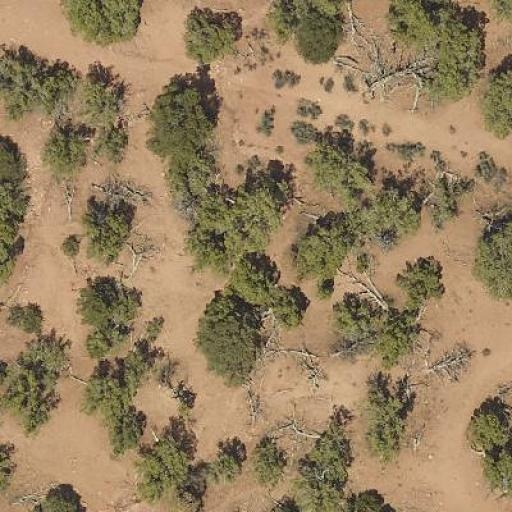tree-top: (143, 75, 222, 169), (300, 125, 385, 203), (205, 177, 286, 257), (428, 12, 494, 109), (198, 283, 262, 378), (0, 48, 69, 120), (360, 179, 434, 246), (296, 423, 351, 512), (286, 214, 356, 281), (132, 430, 201, 496), (178, 2, 244, 64), (0, 357, 54, 430), (360, 383, 412, 458), (78, 274, 143, 332), (76, 200, 136, 262), (64, 0, 146, 43), (474, 217, 512, 304), (77, 362, 130, 420), (388, 0, 446, 51), (74, 69, 125, 124), (372, 309, 422, 364), (41, 123, 91, 175), (466, 398, 512, 454), (327, 293, 373, 347), (396, 258, 445, 307), (296, 13, 344, 62), (484, 60, 512, 142), (229, 259, 278, 305), (106, 407, 150, 454), (1, 138, 29, 206), (269, 286, 312, 330), (248, 434, 284, 483), (0, 299, 48, 335), (0, 204, 24, 274), (184, 226, 222, 270), (430, 174, 462, 226), (265, 2, 303, 42), (208, 441, 245, 482), (36, 483, 87, 512), (93, 124, 129, 165), (485, 442, 511, 496), (165, 483, 209, 512), (344, 488, 392, 512)
